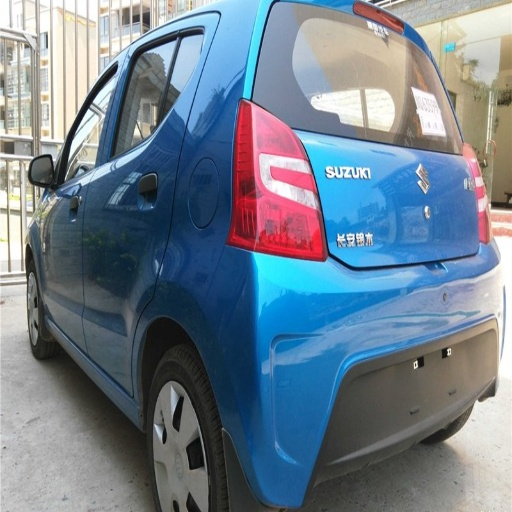back_bumper: (213, 249, 509, 498)
back_glass: (282, 13, 392, 93)
back_left_door: (86, 64, 179, 279)
back_left_light: (228, 100, 322, 259)
tailgate: (291, 91, 365, 201), (326, 219, 427, 267)
trunk: (305, 130, 480, 261)
